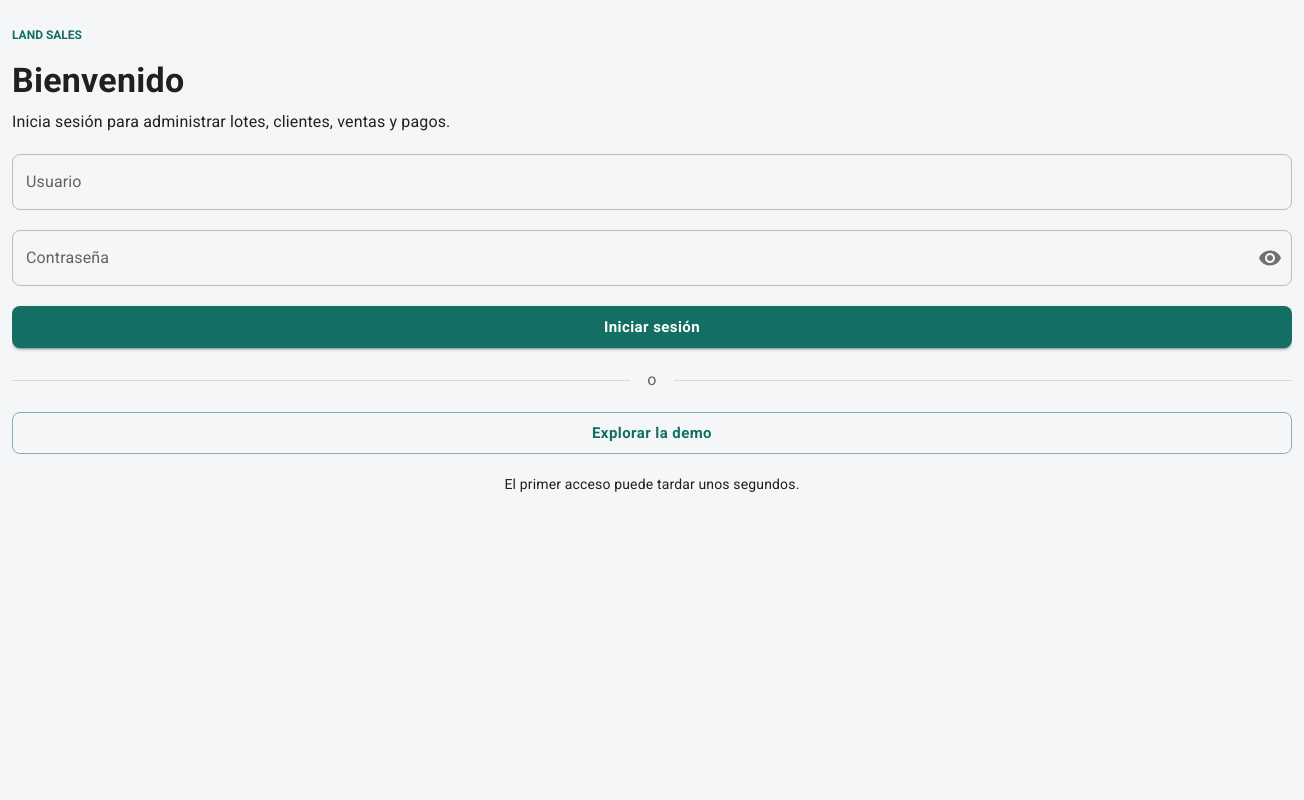
Test: LoginForm › shows the application authentication error for invalid credentials
Step 1. Type "admin" into the field labelled "Usuario" → {"x": 652, "y": 182}, box [12, 154, 1292, 210]
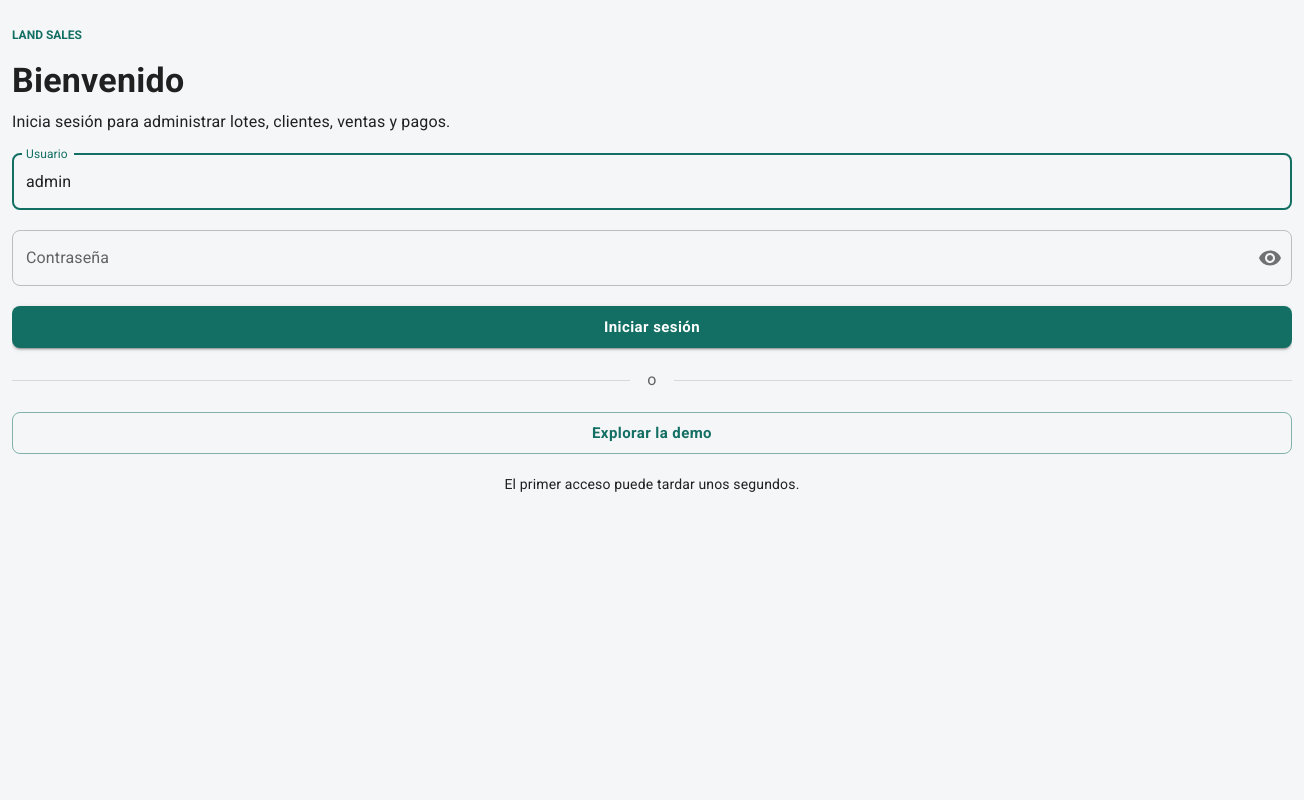
Step 2. Type "wrong-password" into the password field labelled "Contraseña" → {"x": 627, "y": 258}, box [12, 230, 1242, 286]
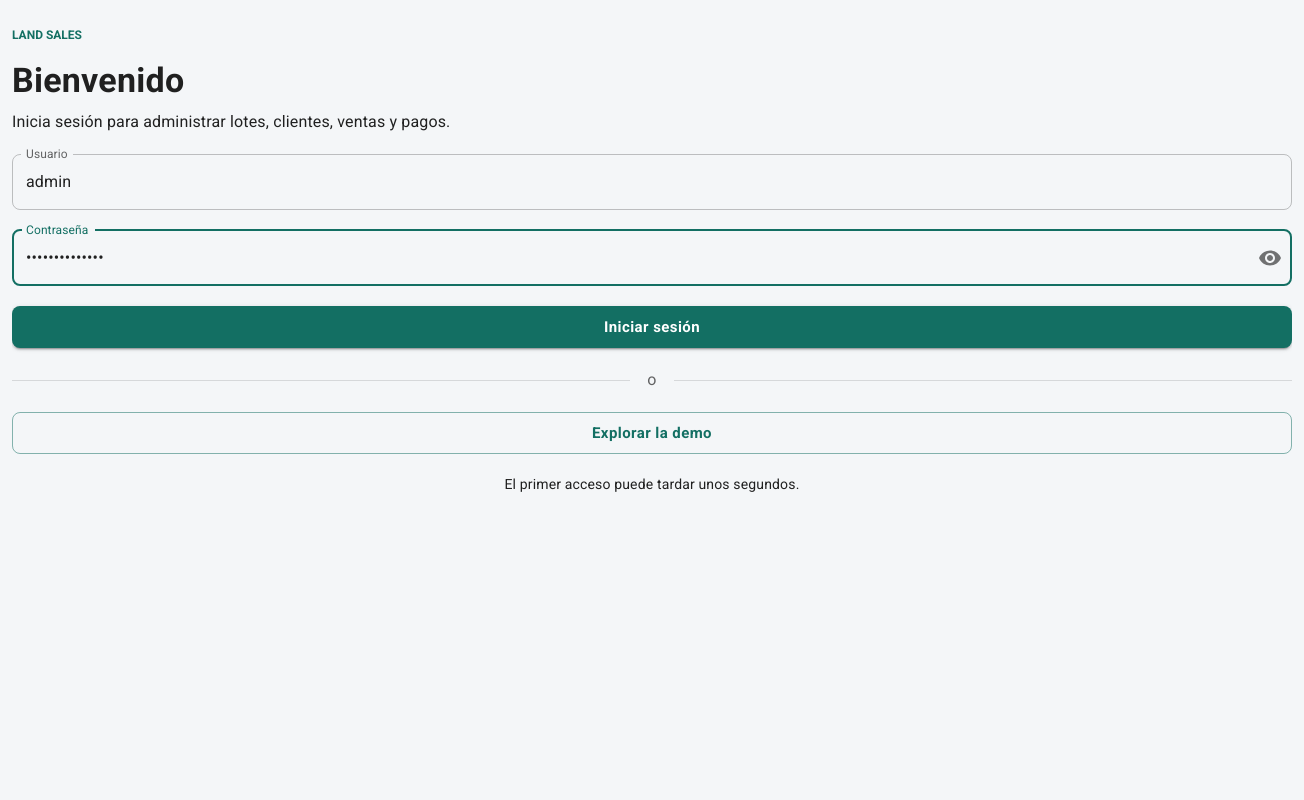
Step 3. Click the button "Iniciar sesión" → {"x": 652, "y": 327}, box [12, 306, 1292, 348]
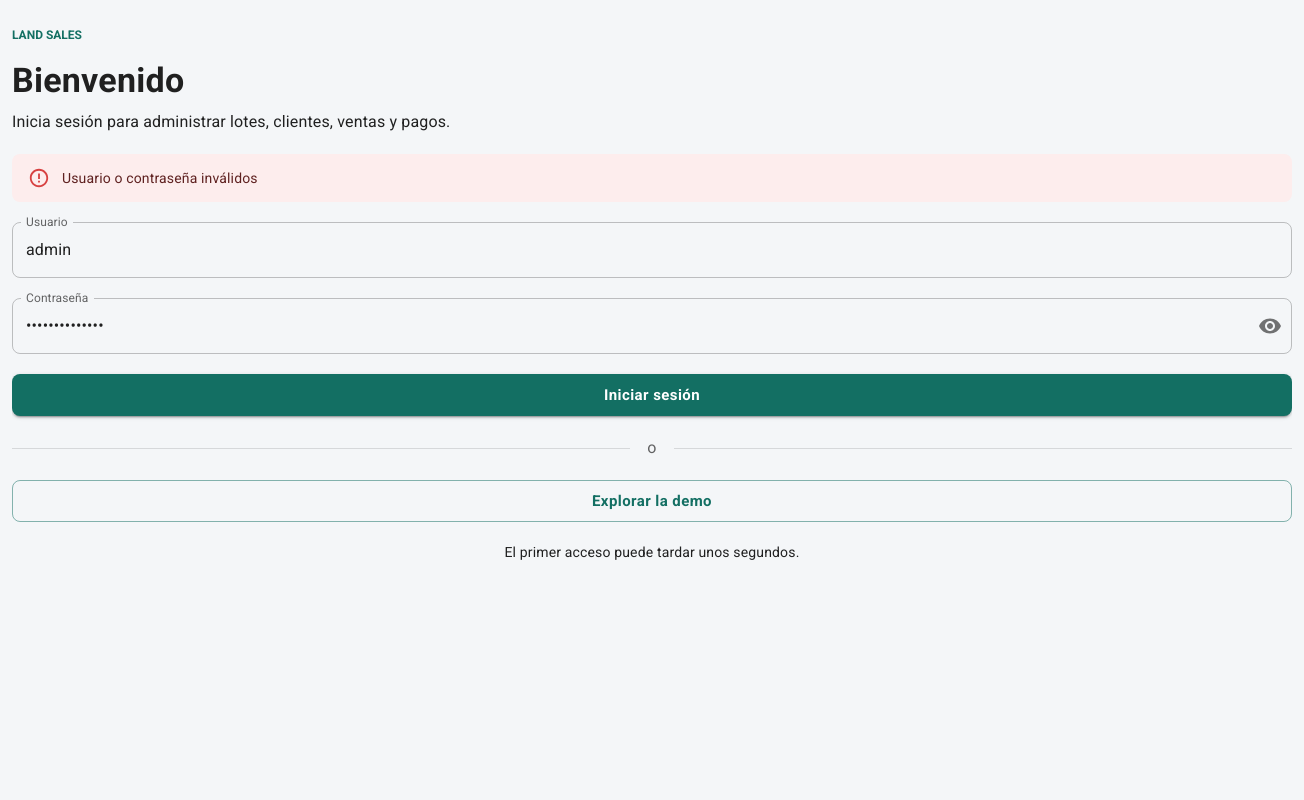
Expected: the text "Usuario o contraseña inválidos" is shown, [62, 170, 258, 186]
